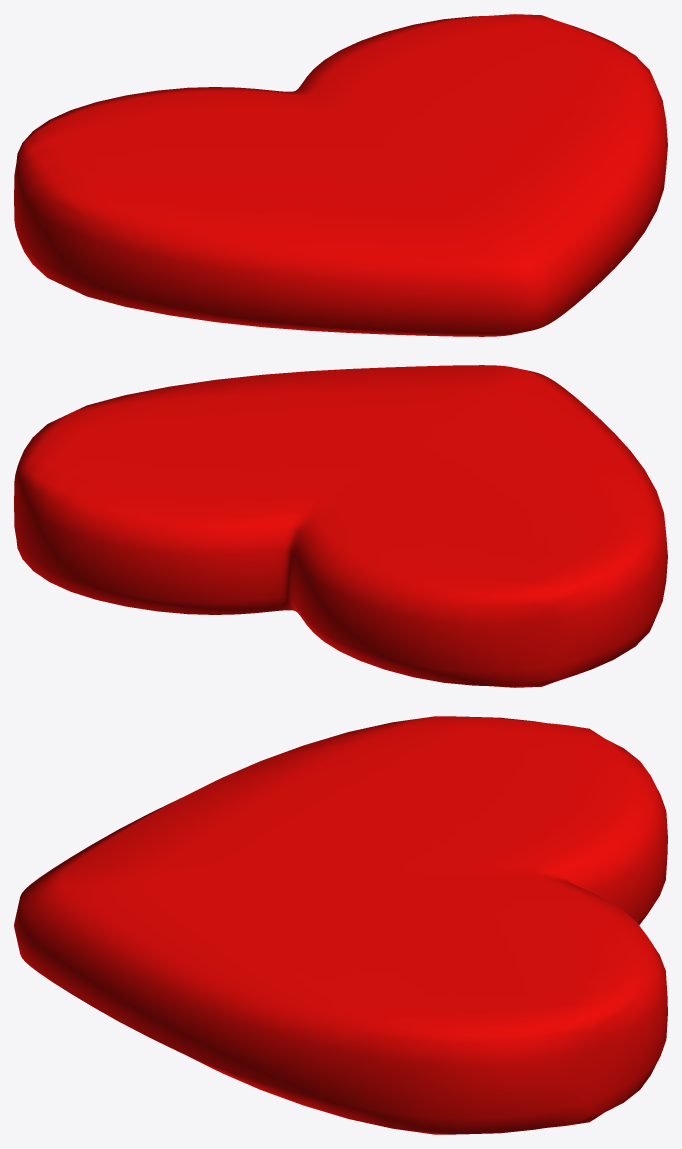
The model's file is heart.fbx.
The picture shows the model from 3 angles, top to bottom: view 1: azimuth 30°, elevation 25°; view 2: azimuth 150°, elevation 25°; view 3: azimuth 270°, elevation 25°; orthographic projection. The views are drawn at different scales.
Parts seen in each view (by area): view 1: Plane; view 2: Plane; view 3: Plane.
Boxes of the visible parts, bbox=[...] form: Plane: bbox=[14, 14, 667, 336]; Plane: bbox=[14, 365, 667, 687]; Plane: bbox=[14, 716, 667, 1134].
Bounding box in the file's own units: 411 × 63.13 × 339.
